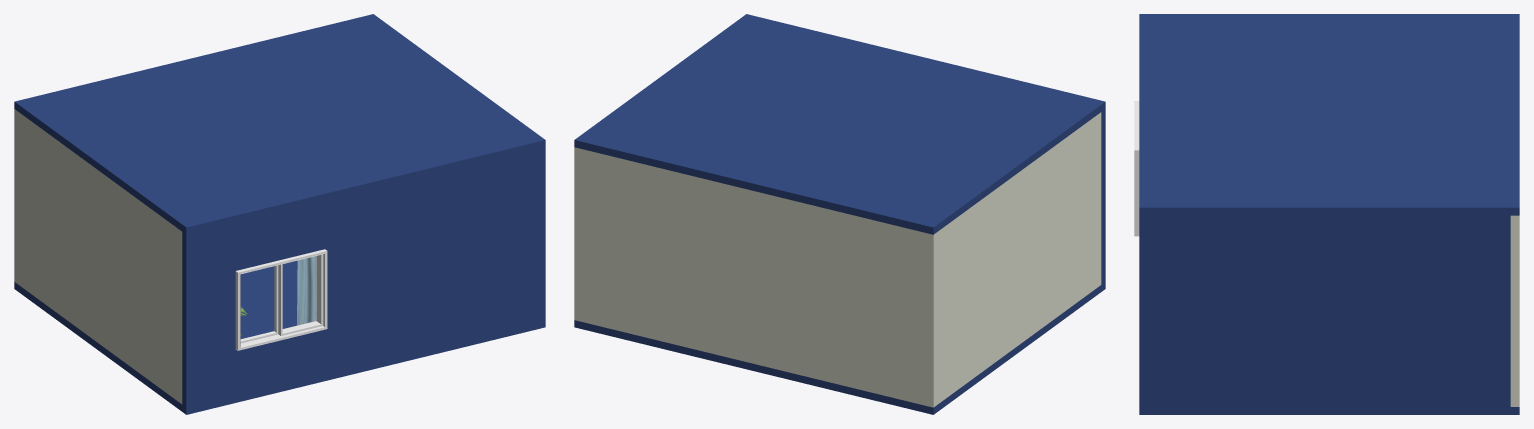
The model's file is scene_colored.glb.
The picture shows the model from 3 angles, left to right: view 1: azimuth 30°, elevation 25°; view 2: azimuth 150°, elevation 25°; view 3: azimuth 270°, elevation 25°; orthographic projection. The views are drawn at different scales.
Parts seen in each view (by area): view 1: Plane, Wall, Wall.001, Plane.001, WindowFrame, Curtain, WindowPane_R, Wall.002, WindowPane_L; view 2: Plane, Wall.002, Wall.001, Plane.001, Wall; view 3: Plane, Wall.003, Plane.001, Wall, Wall.002, WindowFrame.
Boxes of the visible parts, bbox=[...] form: Plane: bbox=[14, 14, 545, 234]; Wall: bbox=[182, 147, 545, 407]; Wall.001: bbox=[18, 112, 182, 404]; Plane.001: bbox=[14, 260, 545, 414]; WindowFrame: bbox=[235, 249, 327, 350]; Curtain: bbox=[297, 256, 316, 325]; WindowPane_R: bbox=[278, 254, 323, 335]; Wall.002: bbox=[14, 109, 18, 284]; WindowPane_L: bbox=[240, 265, 278, 343]; Plane: bbox=[574, 14, 1105, 234]; Wall.002: bbox=[574, 147, 937, 407]; Wall.001: bbox=[937, 112, 1101, 404]; Plane.001: bbox=[574, 282, 1105, 414]; Wall: bbox=[1101, 109, 1105, 284]; Plane: bbox=[1139, 14, 1519, 215]; Wall.003: bbox=[1148, 215, 1510, 406]; Plane.001: bbox=[1139, 407, 1519, 414]; Wall: bbox=[1139, 215, 1148, 406]; Wall.002: bbox=[1510, 215, 1519, 406]; WindowFrame: bbox=[1134, 101, 1139, 236].
Bounding box in the file's own units: 10 × 4.99 × 8.41.
